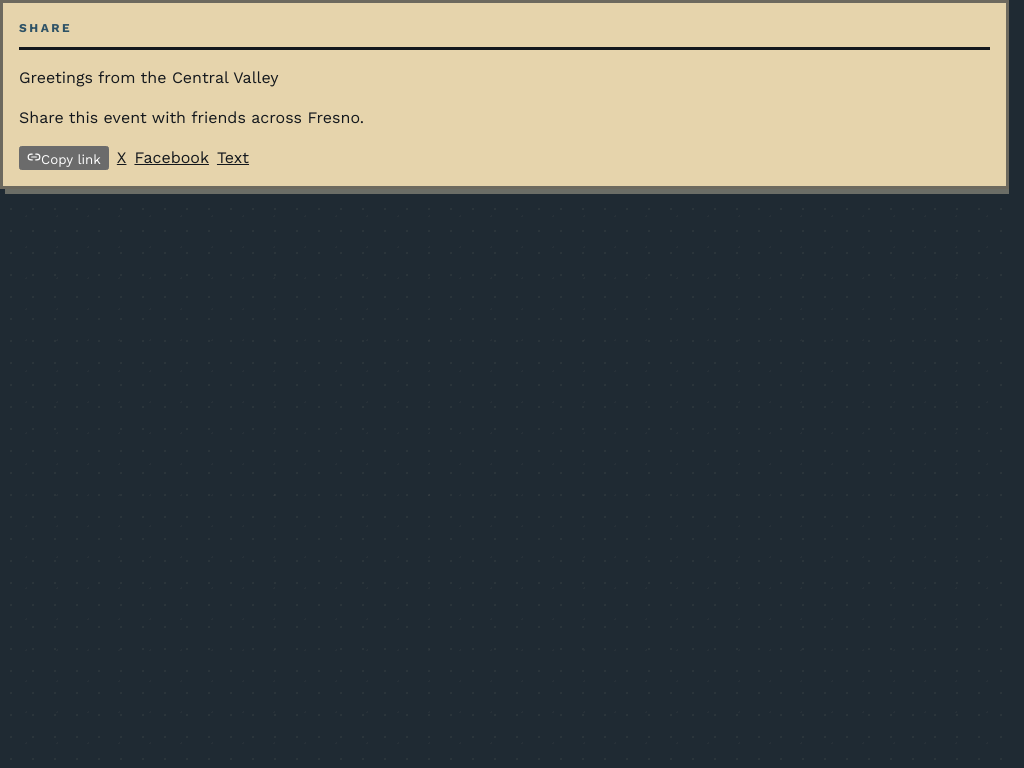
Test: EventShareCard › shows copied state after successful clipboard write
Click the button "Copy link": (64, 158) [19,146,109,170]
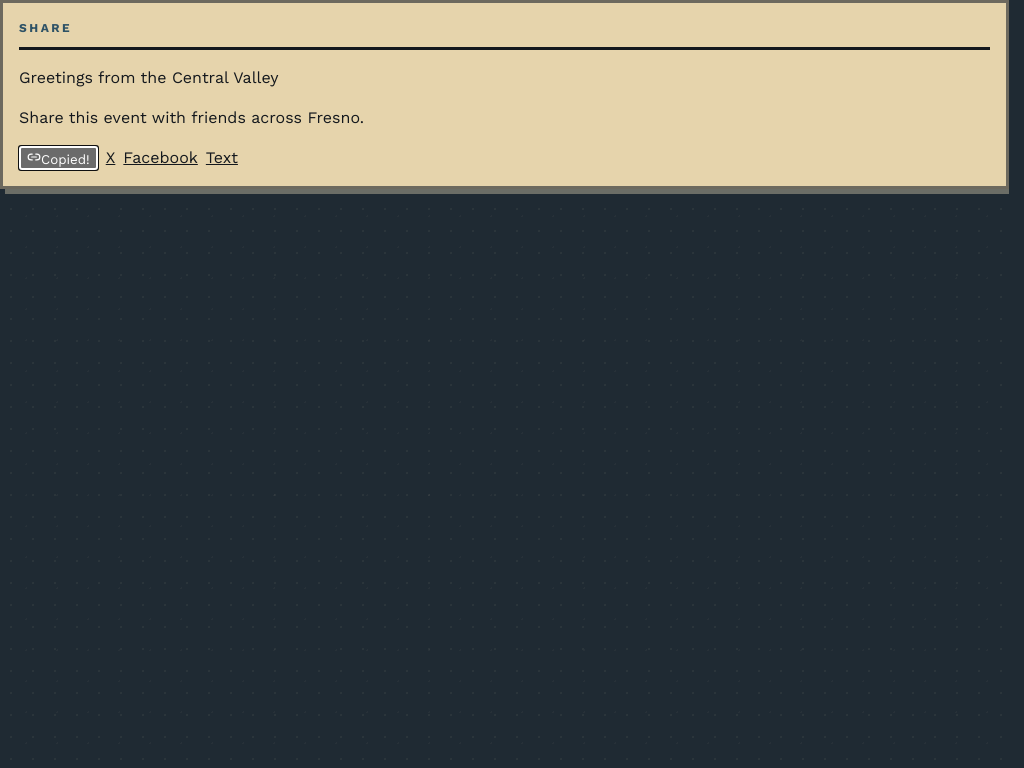
expect the button "Copied!" is shown: met, box [19,146,98,170]
